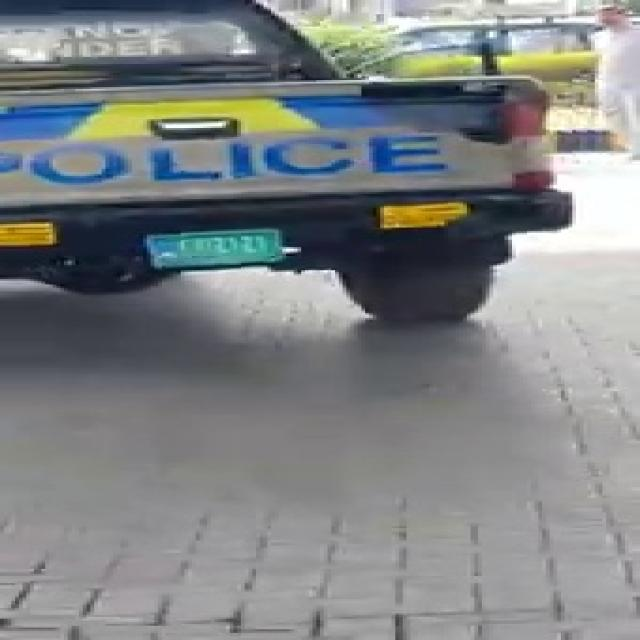police: (1, 0, 598, 328)
